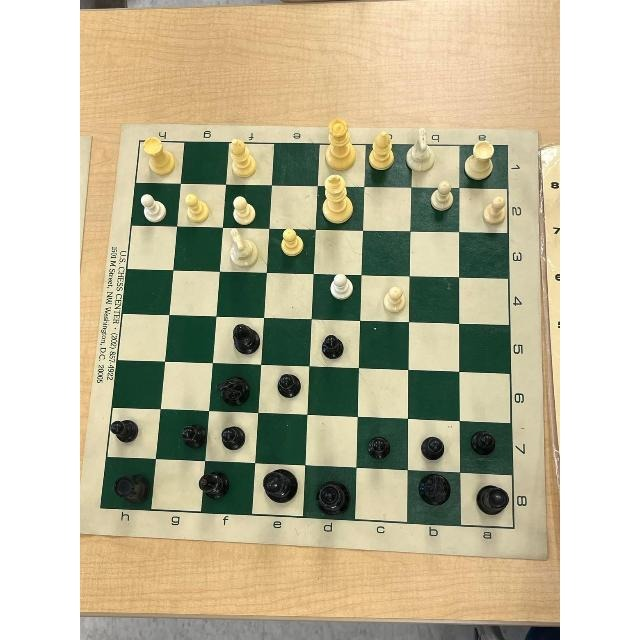black-bishop: (195, 459, 247, 507), (217, 314, 263, 362)
black-king: (254, 464, 304, 515)
black-knight: (211, 363, 260, 413), (410, 470, 462, 517)
black-pawn: (458, 420, 510, 472), (159, 405, 206, 461), (409, 420, 459, 470), (310, 319, 359, 368), (358, 417, 406, 467), (209, 410, 255, 460), (107, 409, 154, 456), (261, 363, 304, 413)
black-queen: (308, 466, 358, 520)
black-rook: (462, 471, 516, 531), (104, 457, 156, 511)
white-bishop: (222, 133, 274, 183), (366, 124, 402, 180)
white-king: (312, 173, 364, 229)
white-knight: (401, 125, 449, 177), (222, 224, 264, 271)
white-pawn: (312, 269, 363, 319), (460, 187, 512, 235), (364, 274, 411, 323), (132, 180, 178, 228), (414, 180, 457, 228), (180, 181, 222, 229), (268, 225, 312, 270), (225, 182, 267, 228)
white-queen: (313, 114, 365, 174)
white-rook: (459, 138, 507, 187), (139, 131, 184, 183)
